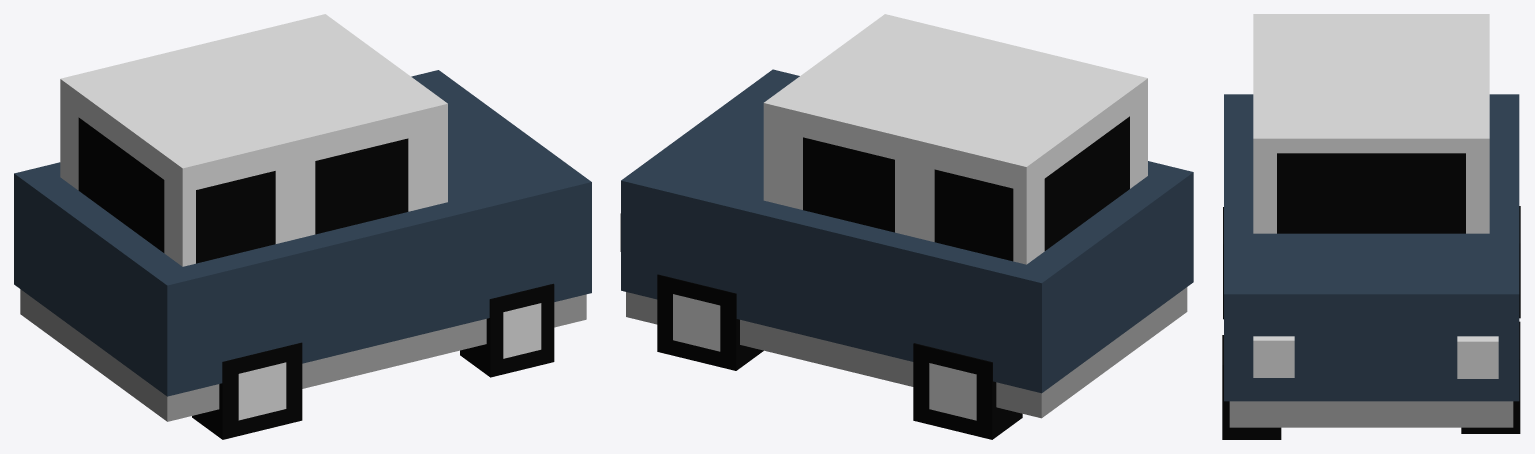
File: darkcar.fbx
3 renders of one model, left to right at view 1: azimuth 30°, elevation 25°; view 2: azimuth 150°, elevation 25°; view 3: azimuth 270°, elevation 25°, orthographic. The views are drawn at different scales.
Visible parts, largest first — view 1: pCube1, pasted__pCube1, pCube4, pasted__pCube2, pCube2; view 2: pCube1, pasted__pCube1, pCube4, pasted__pasted__pCube2, pasted__pCube2; view 3: pCube1, pasted__pCube1, pCube4, pasted__pCube3, pCube3, pCube2, pasted__pCube2.
Boxes of the visible parts, <box> form: pCube1: <box>14,70,591,396</box>; pasted__pCube1: <box>60,14,447,266</box>; pCube4: <box>20,289,586,421</box>; pasted__pCube2: <box>192,342,302,439</box>; pCube2: <box>460,283,554,377</box>; pCube1: <box>621,69,1193,393</box>; pasted__pCube1: <box>763,14,1147,264</box>; pCube4: <box>626,287,1187,418</box>; pasted__pasted__pCube2: <box>913,343,1022,439</box>; pasted__pCube2: <box>657,274,763,370</box>; pCube1: <box>1224,94,1519,401</box>; pasted__pCube1: <box>1253,14,1489,233</box>; pCube4: <box>1229,401,1513,427</box>; pasted__pCube3: <box>1457,336,1498,378</box>; pCube3: <box>1253,336,1294,377</box>; pCube2: <box>1222,335,1281,439</box>; pasted__pCube2: <box>1461,321,1520,433</box>.
Bounding box in the file's own units: 8.21 × 4.83 × 5.05.
